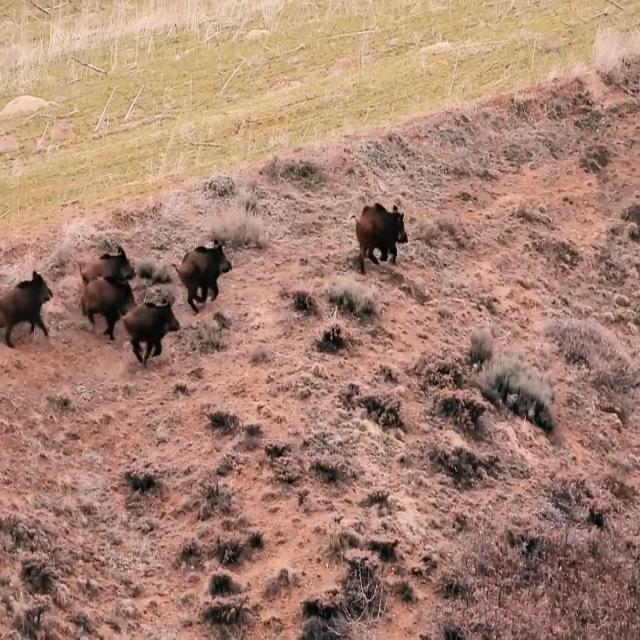pig: (348, 182, 430, 310), (106, 287, 204, 385), (0, 262, 70, 366), (180, 220, 243, 322), (73, 264, 139, 348)
